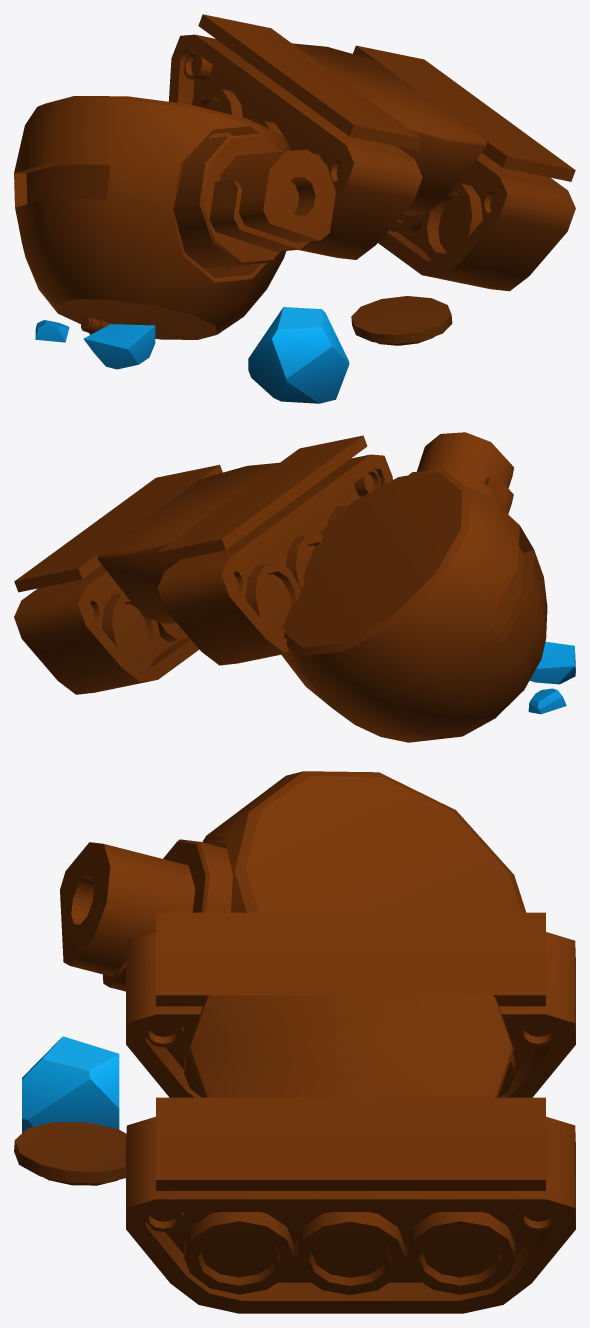
File: Vehicle_Destroyed_Tank_01.fbx
The picture shows the model from 3 angles, top to bottom: view 1: azimuth 30°, elevation 25°; view 2: azimuth 150°, elevation 25°; view 3: azimuth 270°, elevation 25°; orthographic projection. The views are drawn at different scales.
Parts seen in each view (by area): view 1: Vehicle_Destroyed_Tank_01; view 2: Vehicle_Destroyed_Tank_01; view 3: Vehicle_Destroyed_Tank_01.
Part boxes in pixels (box(x1,y1,x2,y2)): Vehicle_Destroyed_Tank_01: box(14, 14, 575, 403); Vehicle_Destroyed_Tank_01: box(14, 432, 575, 742); Vehicle_Destroyed_Tank_01: box(14, 771, 575, 1313).
Size of the model in its own units: 216 by 109 by 166.
